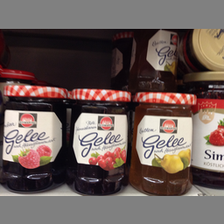jam: (2, 85, 69, 193), (130, 93, 195, 196), (69, 88, 131, 195), (184, 72, 223, 191), (128, 30, 177, 91)
